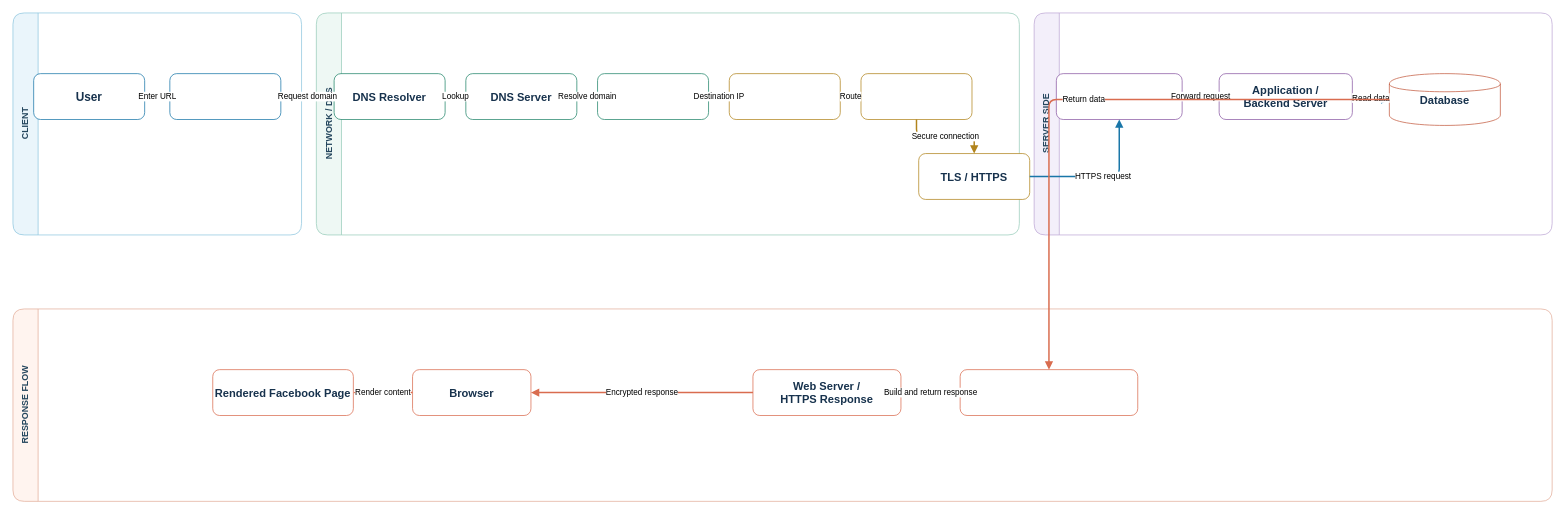
The diagram is 1565 pixels wide and 514 high, and some of its shapes have lost their labels. Here are the shapes that lost their labels. From the top down, the box of each, then its label:
(169, 73, 281, 120): Web Browser (Client)
(597, 73, 709, 120): IP Address
(729, 73, 840, 120): Internet / Routers
(860, 73, 972, 120): TCP Connection
(1056, 73, 1182, 120): Facebook Web Server
(959, 369, 1138, 416): Application / Backend Server (same layer)
